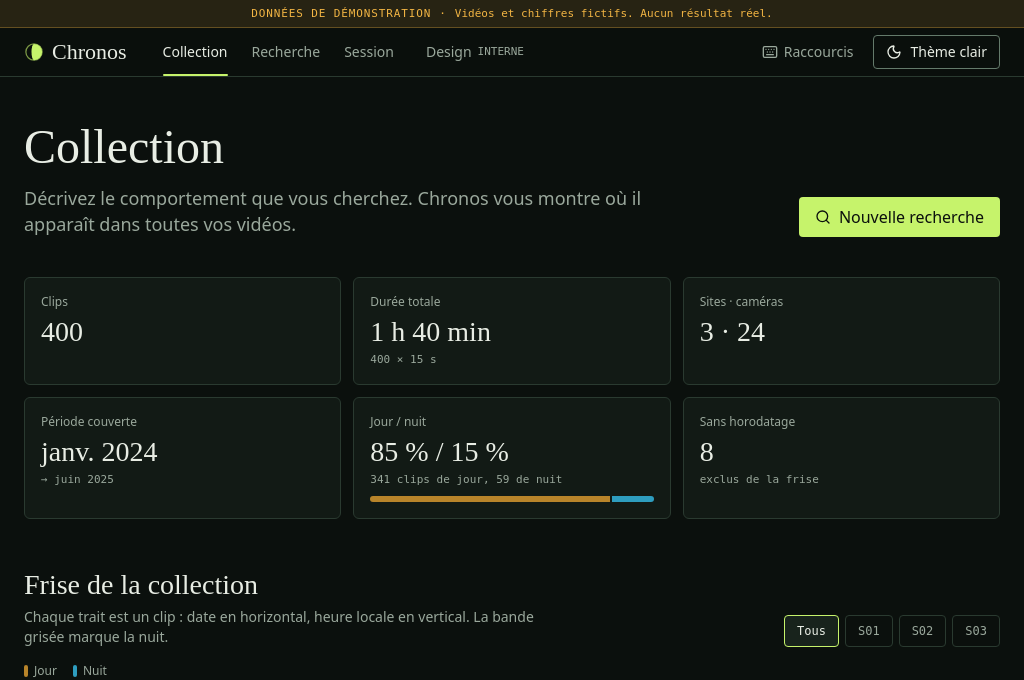
mise en page › navigue entre les écrans et marque la page active (aria-current)
Click the link "Recherche": point(286, 52) [252,42,320,61]
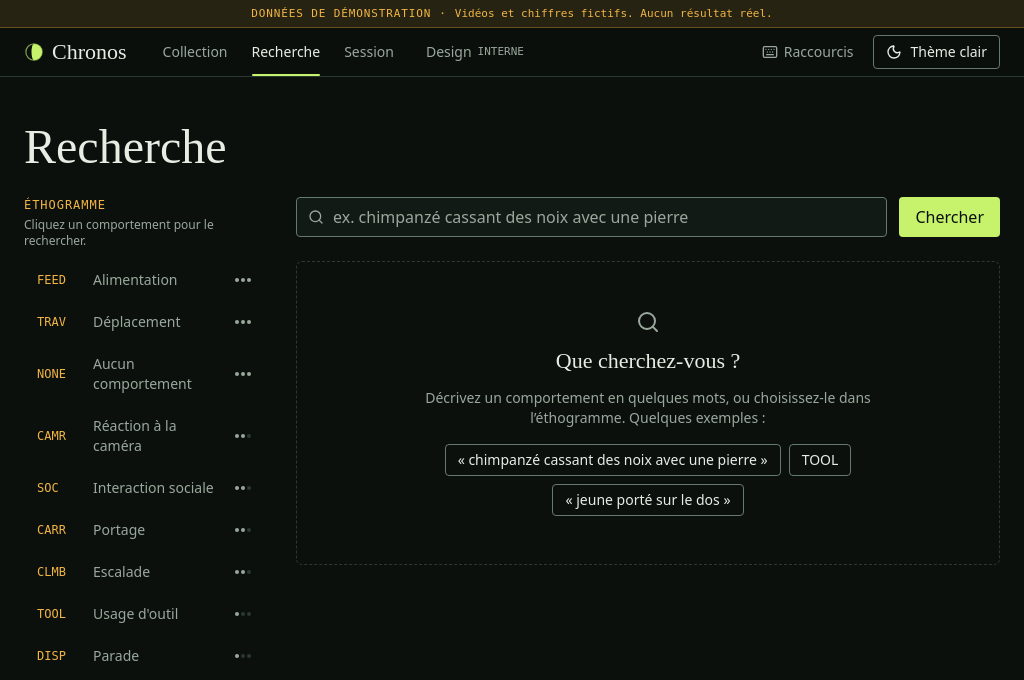
Expected: the heading "Recherche" is shown, [24,120,226,173]
